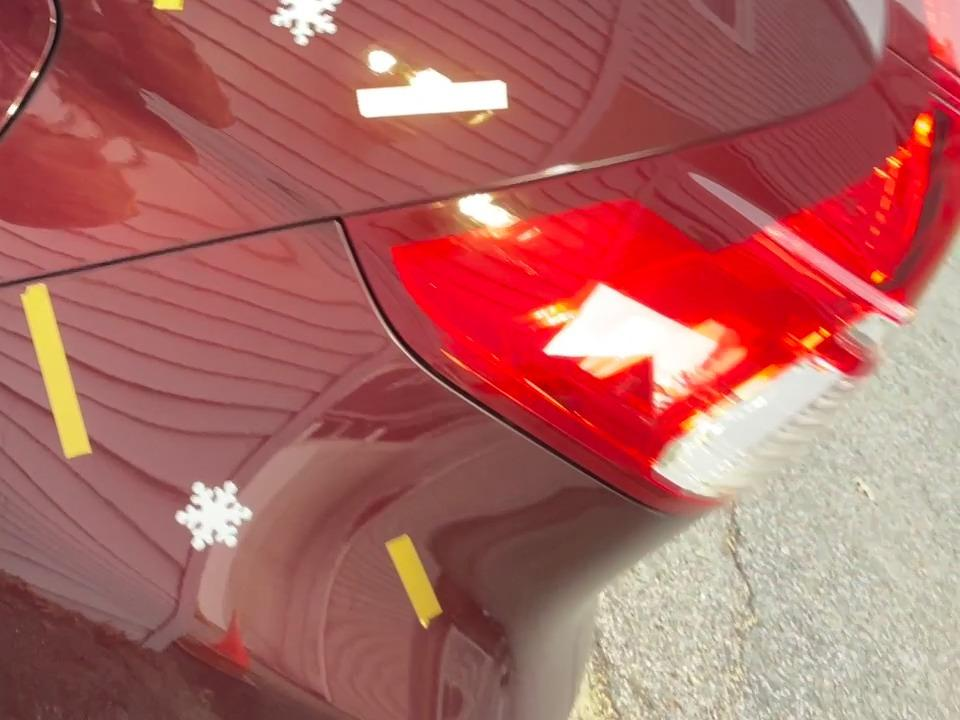dent: (173, 473, 258, 560), (266, 0, 345, 54), (712, 0, 810, 2)
scratch: (9, 275, 104, 463), (355, 67, 516, 129), (379, 531, 459, 631), (148, 0, 211, 23)
